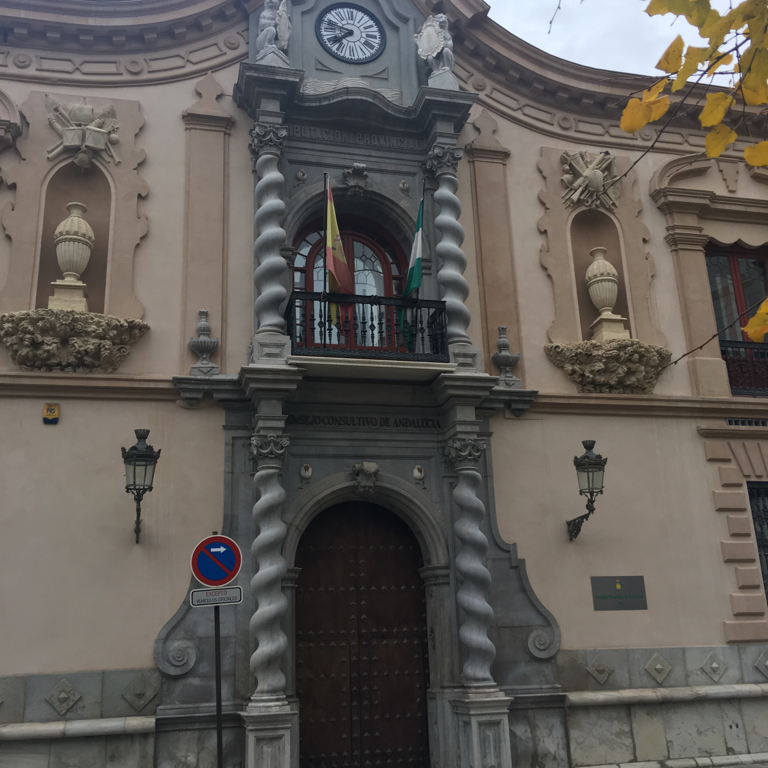arco-medio-punto: (289, 487, 436, 594)
columna-salomonica: (448, 470, 502, 698), (243, 461, 292, 702), (249, 143, 293, 346), (431, 171, 472, 353)
fronton-partido: (653, 148, 768, 212)
